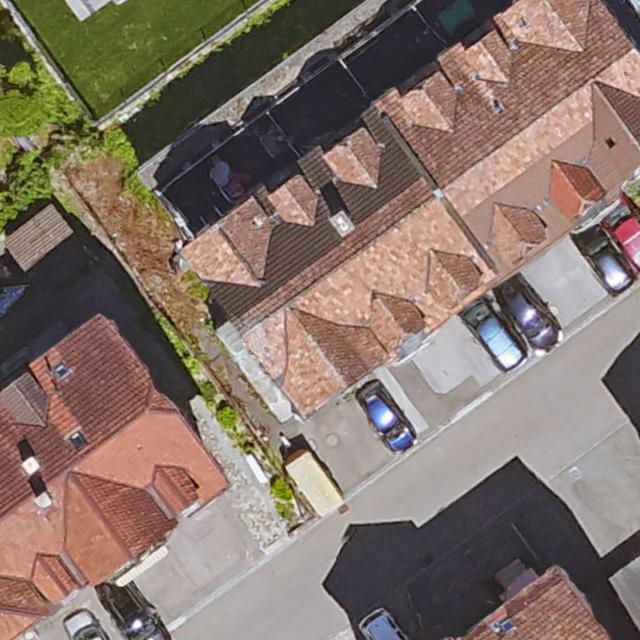tree: (0, 85, 39, 135)
